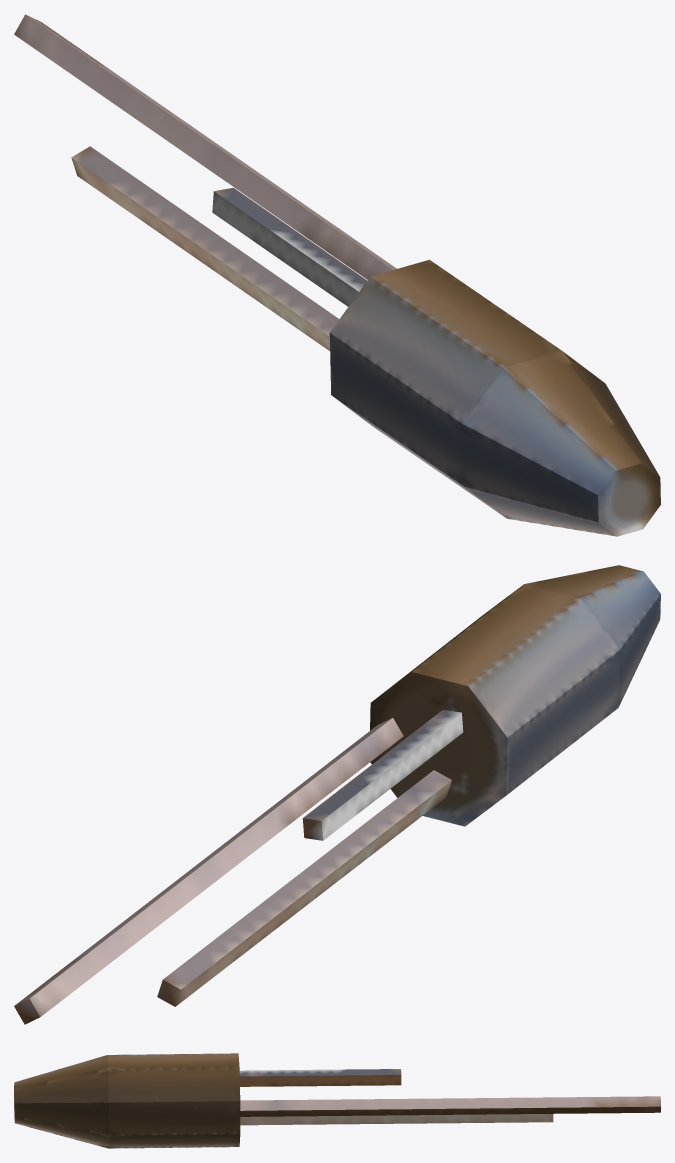
3 views of the same model, one above another, from view 1: azimuth 30°, elevation 25°; view 2: azimuth 150°, elevation 25°; view 3: azimuth 270°, elevation 25° (orthographic). The views are drawn at different scales.
Parts seen in each view (by area): view 1: Bala_Cylinder.003, Estela_1_Cube.006, Estela_3_Cube.008, Estela_2_Cube.007; view 2: Bala_Cylinder.003, Estela_1_Cube.006, Estela_3_Cube.008, Estela_2_Cube.007; view 3: Bala_Cylinder.003, Estela_1_Cube.006, Estela_3_Cube.008, Estela_2_Cube.007.
Part boxes in pixels (bbox=[...]): Bala_Cylinder.003: bbox=[329, 259, 660, 536]; Estela_1_Cube.006: bbox=[14, 14, 396, 279]; Estela_3_Cube.008: bbox=[71, 146, 339, 350]; Estela_2_Cube.007: bbox=[212, 187, 367, 306]; Bala_Cylinder.003: bbox=[370, 565, 660, 826]; Estela_1_Cube.006: bbox=[14, 718, 403, 1024]; Estela_3_Cube.008: bbox=[157, 770, 451, 1006]; Estela_2_Cube.007: bbox=[302, 710, 463, 840]; Bala_Cylinder.003: bbox=[14, 1053, 240, 1148]; Estela_1_Cube.006: bbox=[240, 1096, 660, 1116]; Estela_3_Cube.008: bbox=[240, 1114, 553, 1125]; Estela_2_Cube.007: bbox=[239, 1069, 401, 1086].
Size of what is drawn, in the model's own units: 0.2726 by 0.2617 by 1.94.
